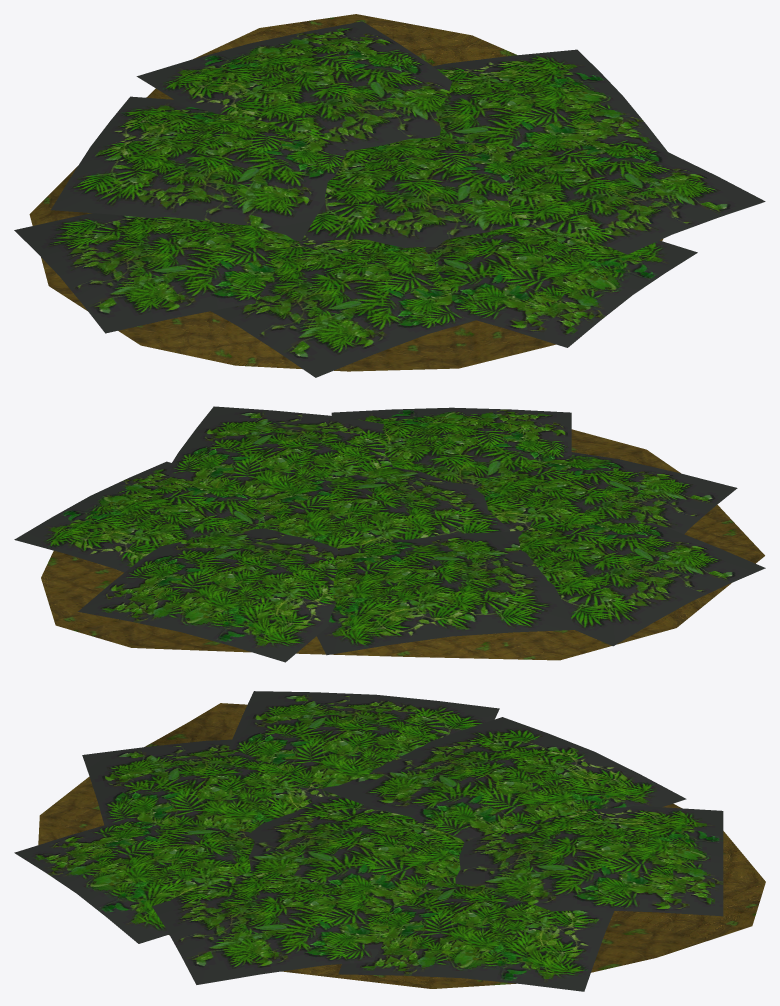
The model's file is INST_PITCOVER.obj.
The picture shows the model from 3 angles, top to bottom: view 1: azimuth 30°, elevation 25°; view 2: azimuth 150°, elevation 25°; view 3: azimuth 270°, elevation 25°; orthographic projection. The views are drawn at different scales.
Visible parts, largest first — view 1: PitCover__AI; view 2: PitCover__AI; view 3: PitCover__AI.
Boxes of the visible parts, box(x1,y1,x2,y2) form: PitCover__AI: box(14, 14, 765, 377); PitCover__AI: box(14, 406, 765, 662); PitCover__AI: box(14, 691, 765, 991).
Size of the model in its own units: 1369 by 91.59 by 1447.
